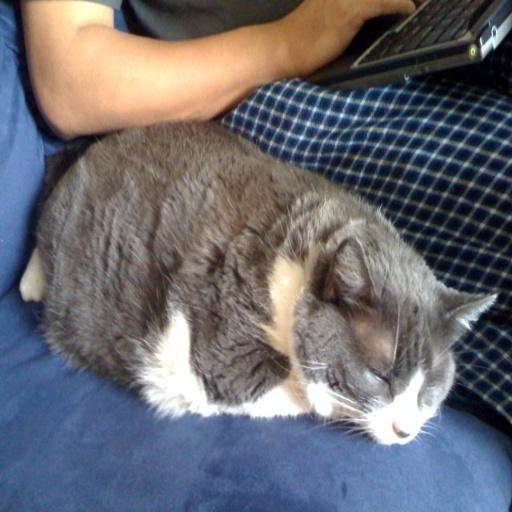hand: (283, 0, 416, 75)
